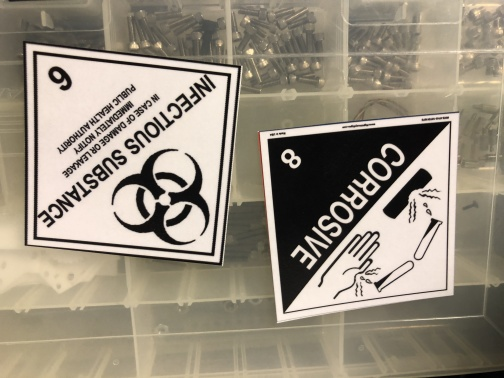Corrosive: (258, 112, 466, 323)
InfectiousSubstance: (23, 40, 243, 266)
